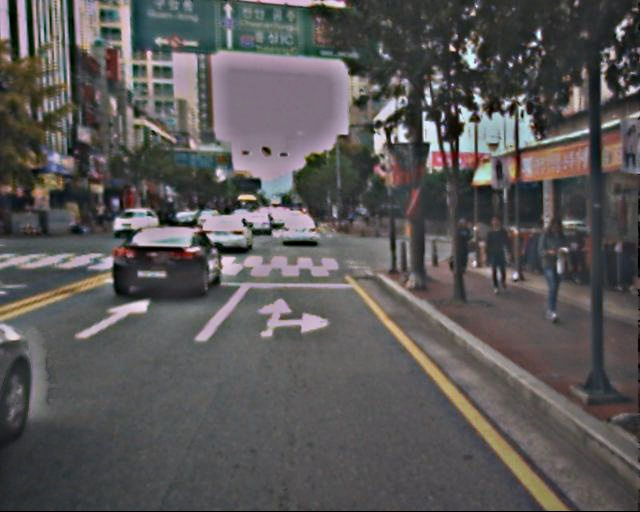person: (527, 219, 576, 322), (481, 214, 516, 295), (451, 215, 477, 279)
